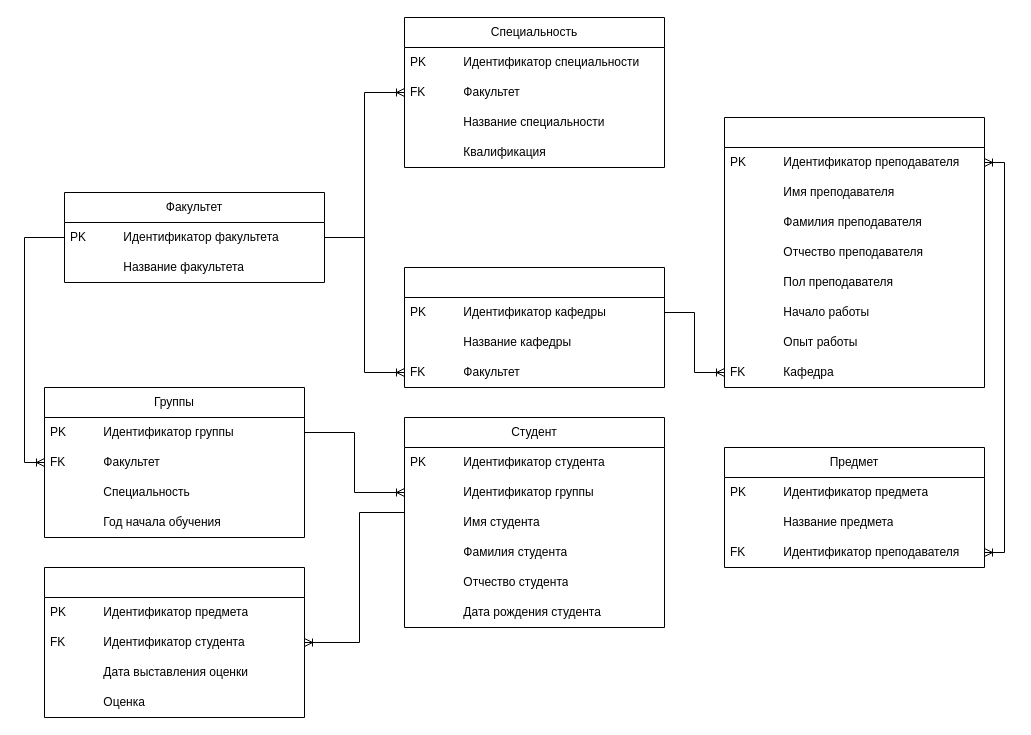
Some shapes in this 1031 by 735 pixel diagram are drawn without their labels. Here are the shapes that lost their labels. From the top down, the box of each, then its label:
(724, 116, 984, 388): Преподаватель
(404, 266, 664, 388): Кафедра
(44, 566, 304, 718): Учебный прогресс
